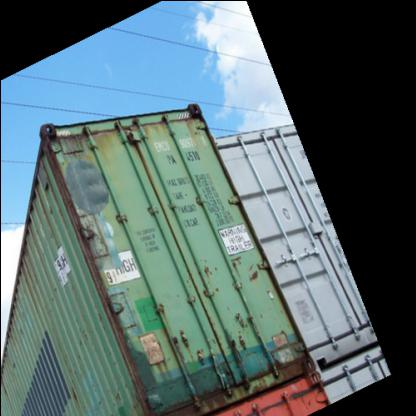Damage: (41, 113, 144, 397), (136, 330, 302, 402)
